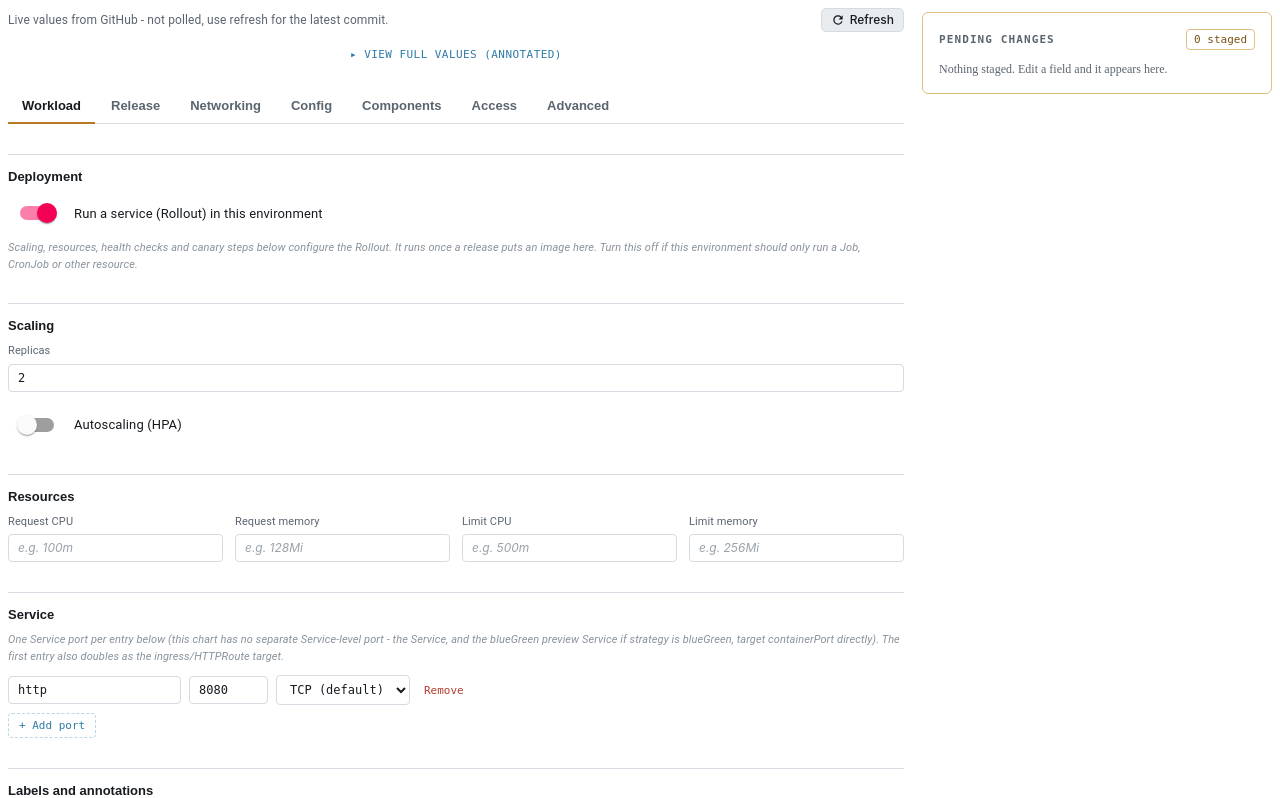
Scenario: values form pending changes › lists a change made in another sub-tab alongside the first
Step 1. Replace the text in the number field labelled "Replicas" with "5" → x=456, y=378, box [8,364,904,392]
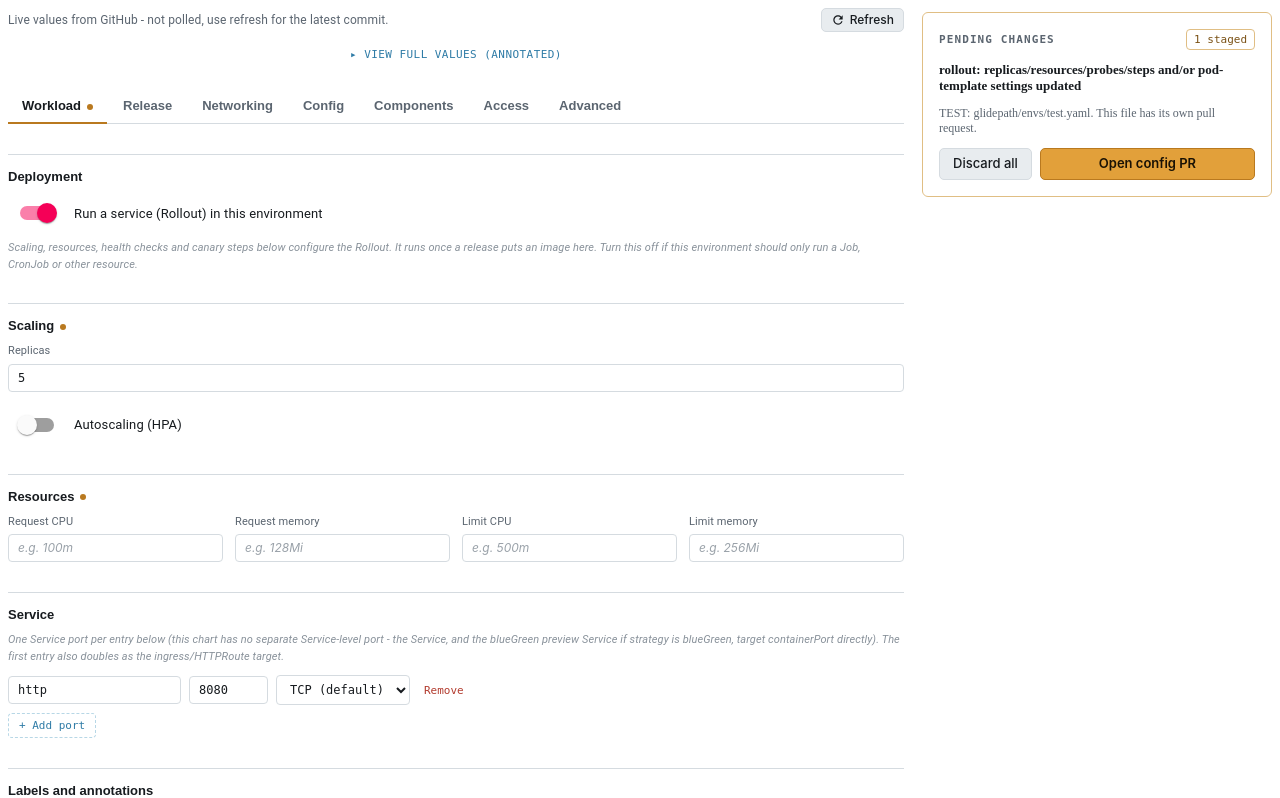
Step 2. Click the tab "Networking" → x=238, y=107, box [188,89,287,124]
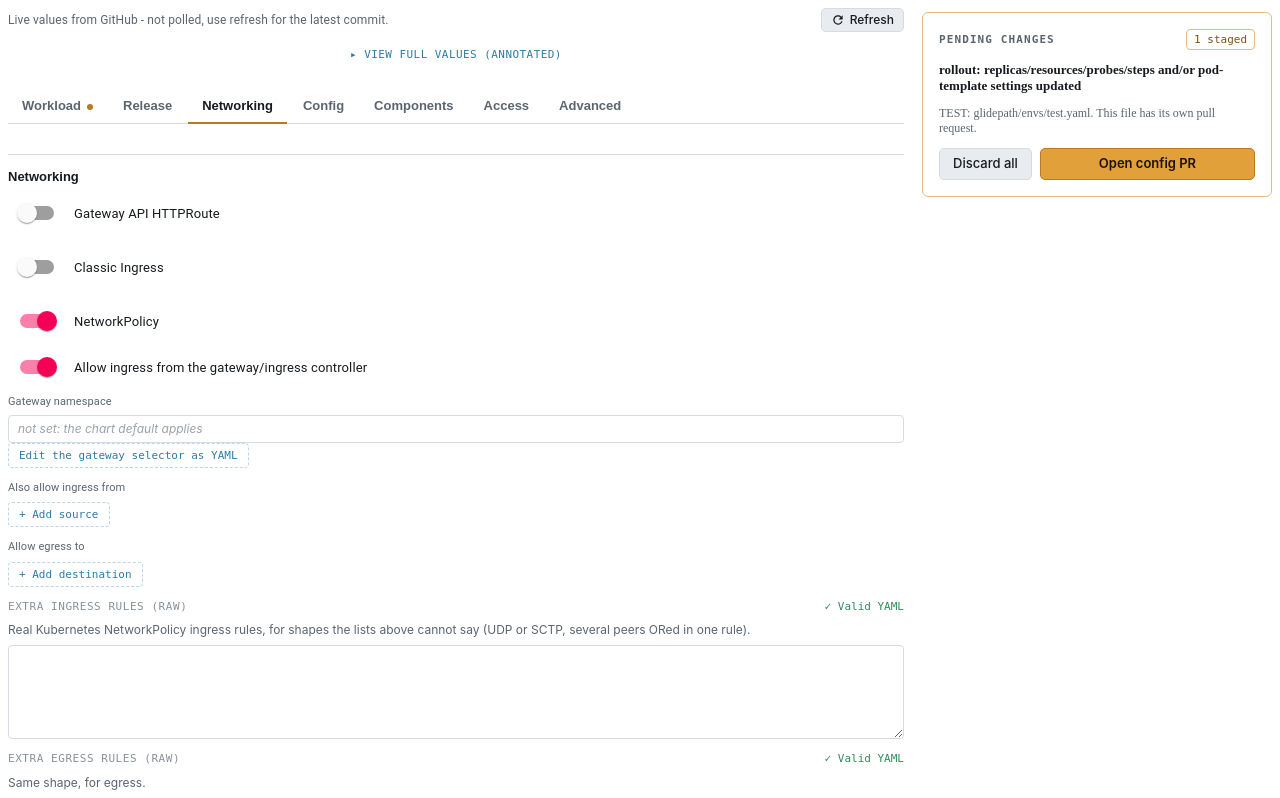
Step 3. Click the checkbox next to "Gateway API HTTPRoute" → x=27, y=213, box [17,203,37,223]
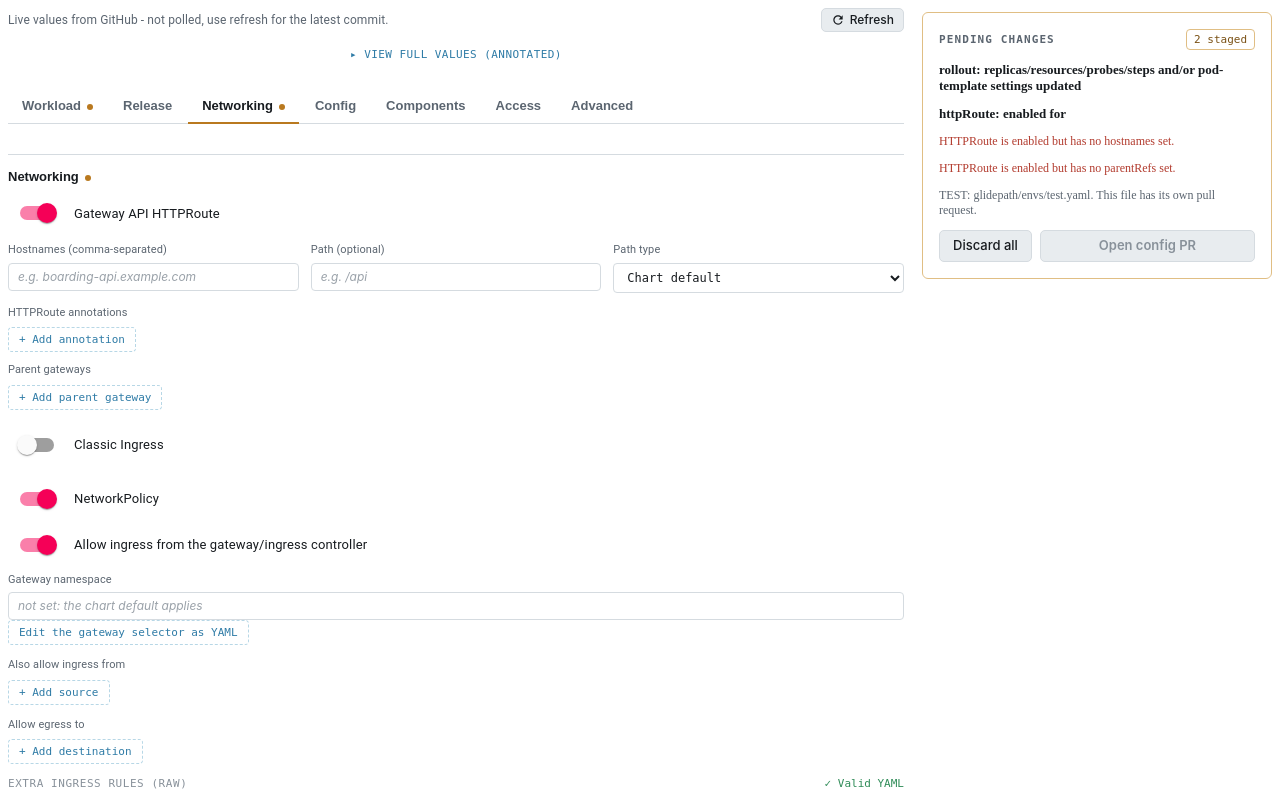
Expected: the text "rollout:" is shown, [939,62,1223,93]
Expected: the text "httpRoute: enabled for" is shown, [939,106,1066,121]
Expected: the text "HTTPRoute is enabled but has no hostnames set." is shown, [939,134,1174,148]
